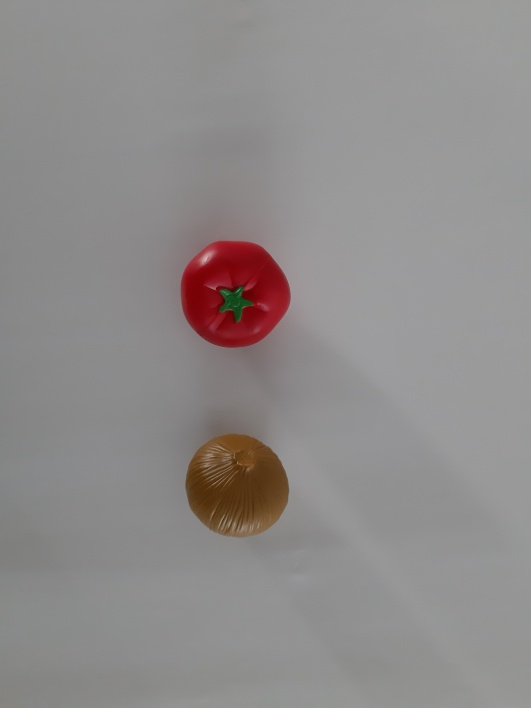onion: (173, 425, 309, 548)
tomato: (167, 231, 310, 368)
